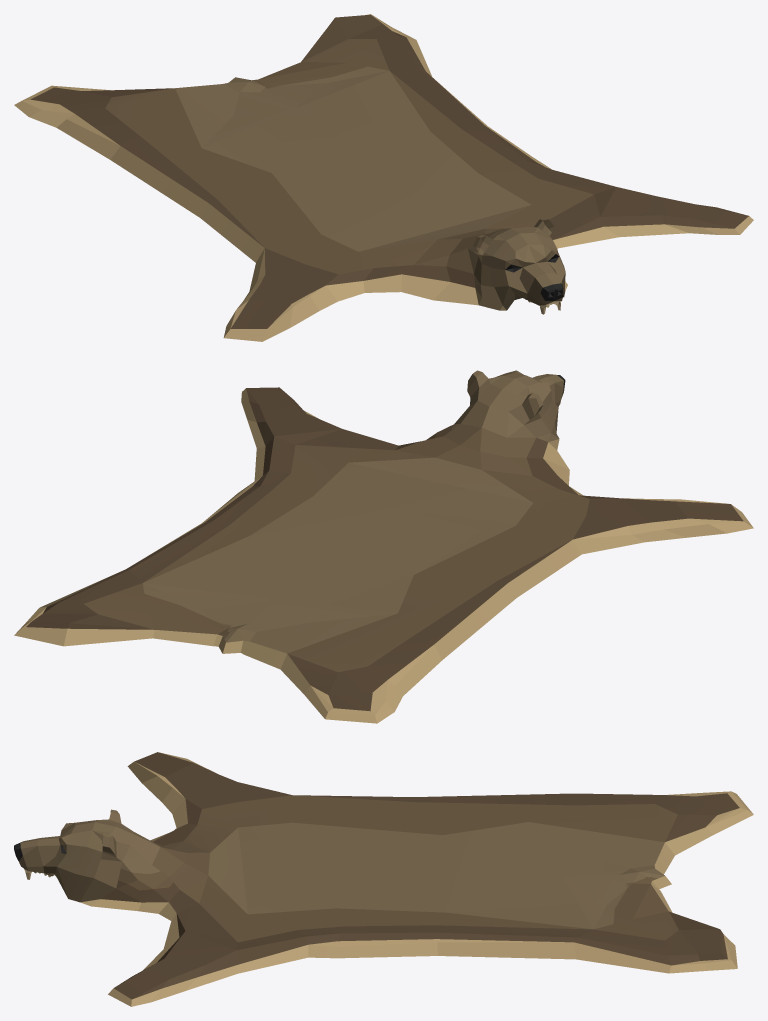
File: SM_Prop_BearRug_01.obj
3 renders of one model, top to bottom at view 1: azimuth 30°, elevation 25°; view 2: azimuth 150°, elevation 25°; view 3: azimuth 270°, elevation 25°, orthographic.
Parts seen in each view (by area): view 1: SM_Prop_BearRug_01_0; view 2: SM_Prop_BearRug_01_0; view 3: SM_Prop_BearRug_01_0.
Part boxes in pixels (x1=…): SM_Prop_BearRug_01_0: x1=14, y1=14, x2=753, y2=341; SM_Prop_BearRug_01_0: x1=14, y1=370, x2=753, y2=723; SM_Prop_BearRug_01_0: x1=14, y1=752, x2=753, y2=1006.
Size of the model in its own units: 2.29 by 0.2722 by 2.83.
Materials: 1 (1 with a texture image).
